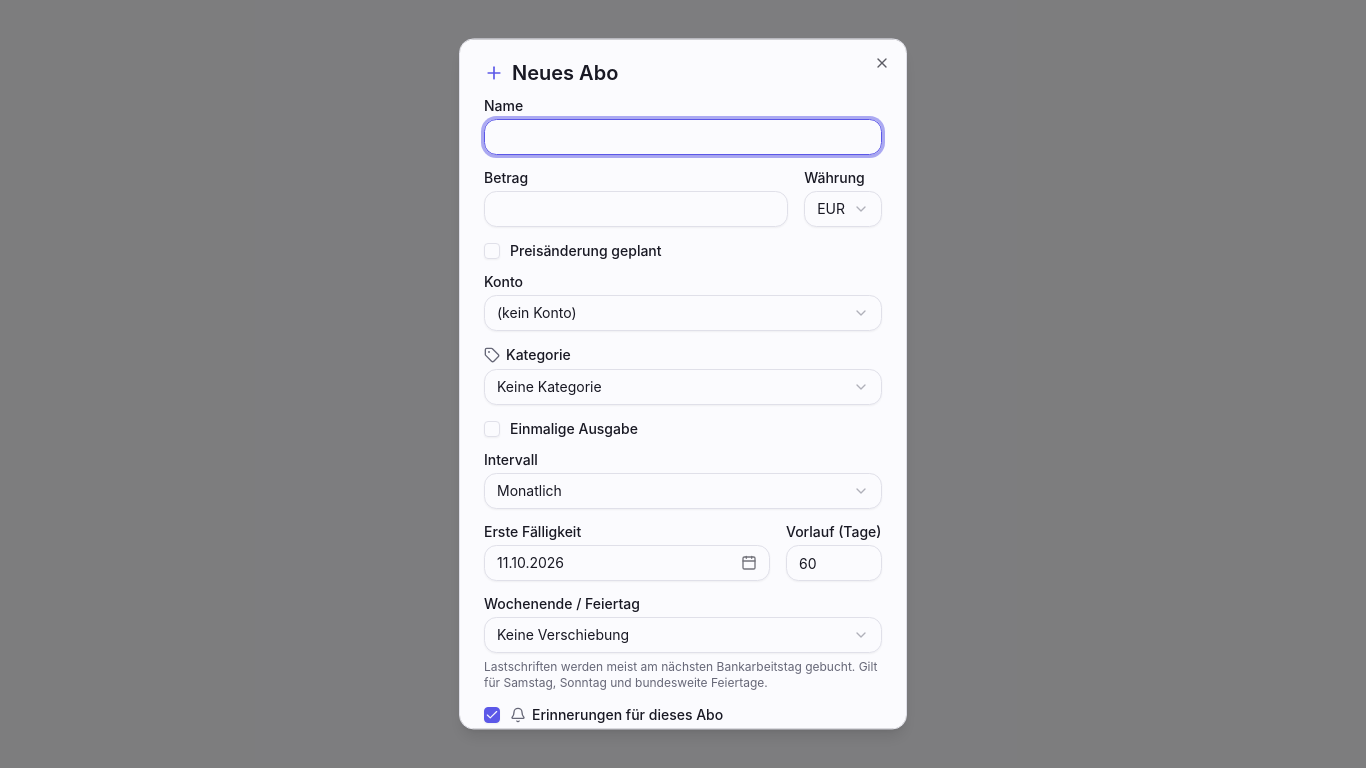
Test: SubscriptionDialog › zeigt feldnahe Fehlermeldung bei leerem Betrag
In the field labelled "Name": (683, 137) [484,119,882,155], type "Test"
(page scrolled)
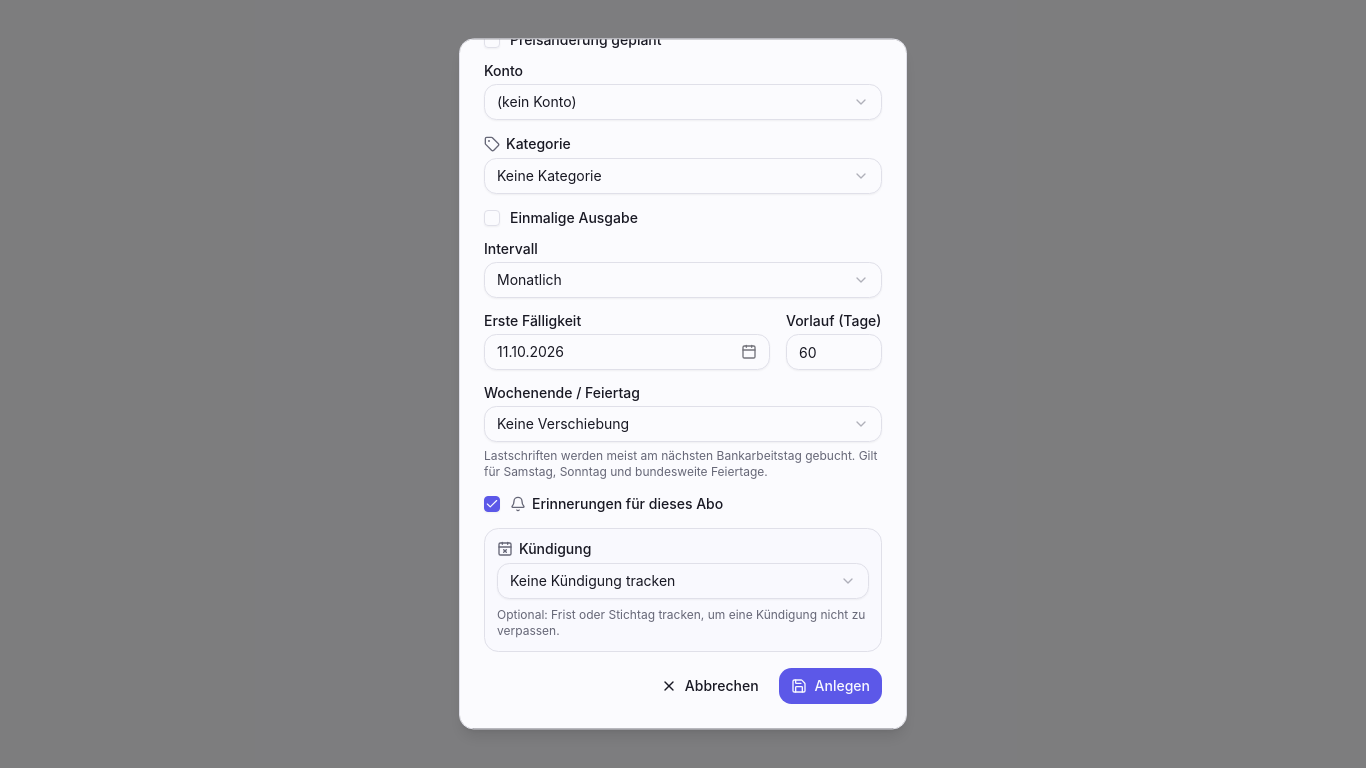
Click the button "Anlegen": (830, 686) [779,668,882,704]
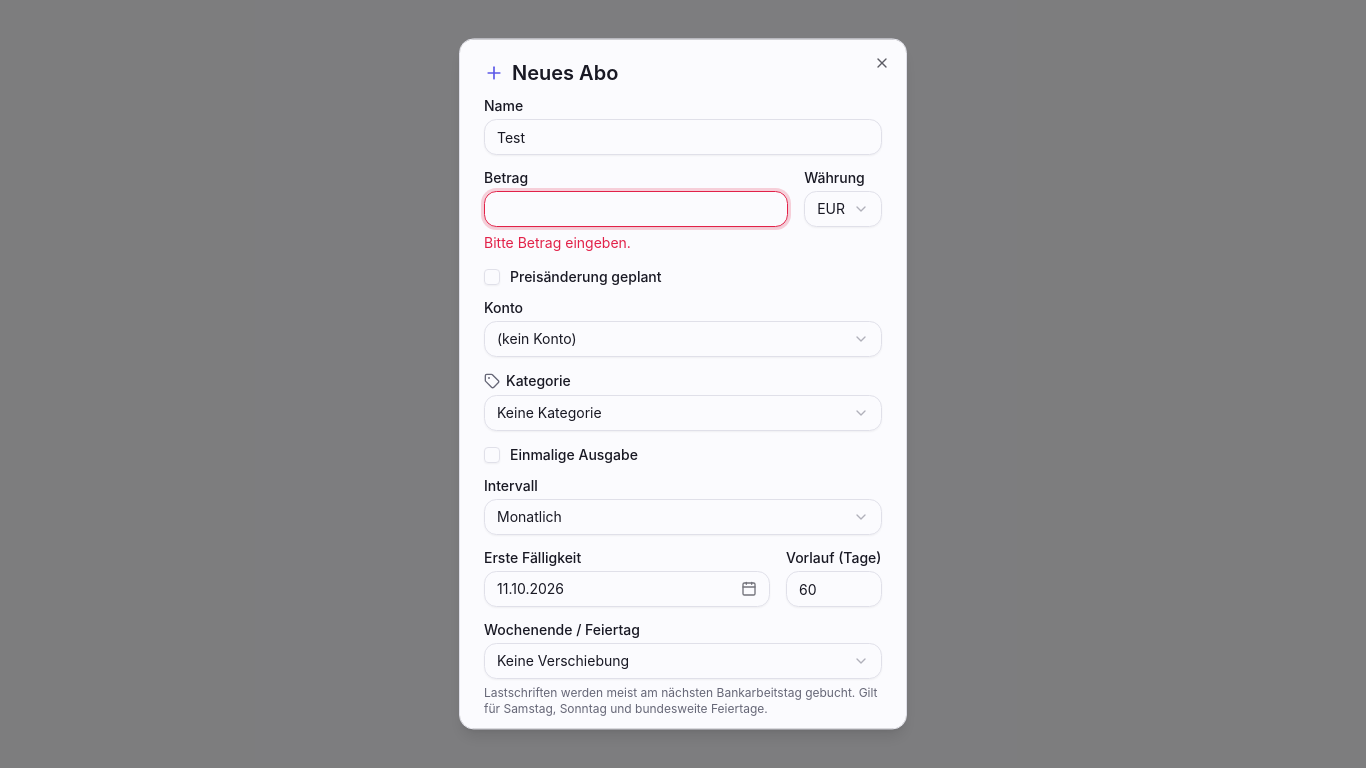
Expected: the text "Bitte Betrag eingeben." is shown, [484,234,631,251]
